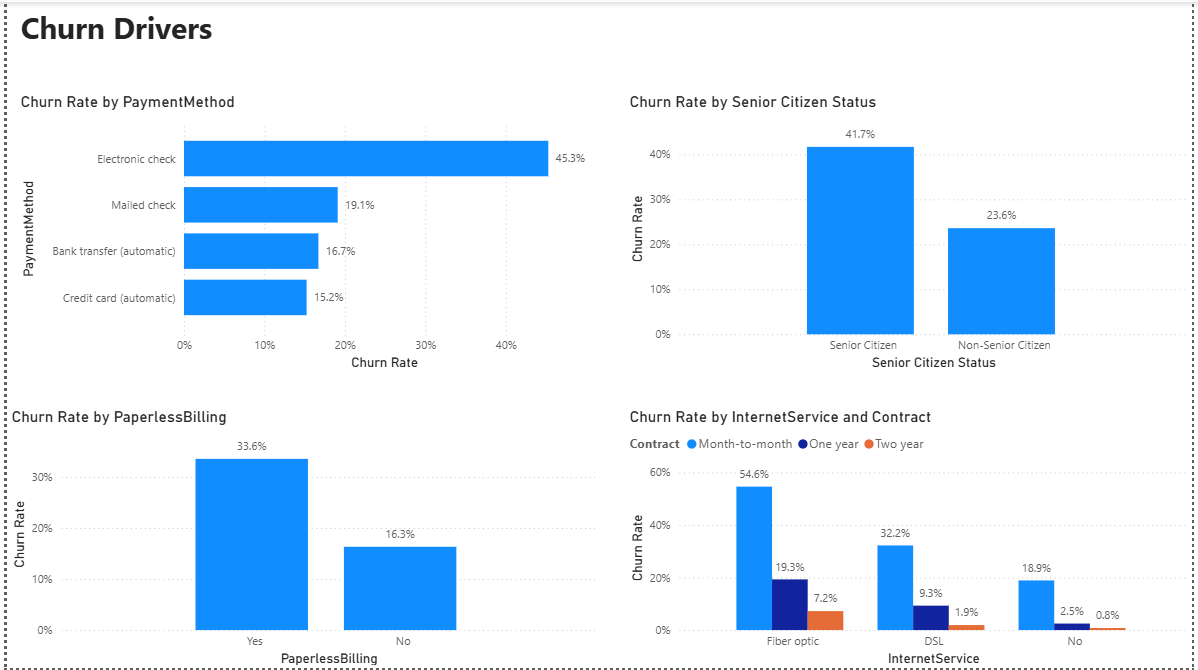

What the dashboard file says about the page in this screenshot:
{"tool":"powerbi","page":{"name":"Churn Drivers","canvas":[1280,720],"ordinal":1},"visuals":[{"type":"textbox","box":[9.4,0,910.9,96.4],"z":0},{"type":"clusteredBarChart","fields":{"Category":["Telco-Customer-Churn.PaymentMethod"],"Y":["Telco-Customer-Churn.Churn Rate"]},"box":[9.4,96.4,631.2,304.3],"z":1},{"type":"clusteredColumnChart","fields":{"Y":["Telco-Customer-Churn.Churn Rate"],"Category":["Telco-Customer-Churn.Senior Citizen Status"]},"box":[667.1,96.4,612.3,304.3],"z":2},{"type":"clusteredColumnChart","fields":{"Category":["Telco-Customer-Churn.PaperlessBilling"],"Y":["Telco-Customer-Churn.Churn Rate"]},"box":[0,436.5,640.6,283.5],"z":3},{"type":"clusteredColumnChart","fields":{"Category":["Telco-Customer-Churn.InternetService"],"Y":["Telco-Customer-Churn.Churn Rate"],"Series":["Telco-Customer-Churn.Contract"]},"box":[667.1,436.5,612.3,283.5],"z":4}]}

Visuals, with their boxes in screenshot pixels (x1, y1, x2, y2), scaled from the page's 1280x720 canvas onto the 1198x670 screenshot:
textbox: [left=9, top=0, right=861, bottom=90]
clusteredBarChart - Telco-Customer-Churn.PaymentMethod x Telco-Customer-Churn.Churn Rate: [left=9, top=90, right=600, bottom=373]
clusteredColumnChart - Telco-Customer-Churn.Churn Rate x Telco-Customer-Churn.Senior Citizen Status: [left=624, top=90, right=1197, bottom=373]
clusteredColumnChart - Telco-Customer-Churn.PaperlessBilling x Telco-Customer-Churn.Churn Rate: [left=0, top=406, right=600, bottom=669]
clusteredColumnChart - Telco-Customer-Churn.InternetService x Telco-Customer-Churn.Churn Rate: [left=624, top=406, right=1197, bottom=669]
